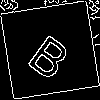B: (25, 25, 79, 83)
